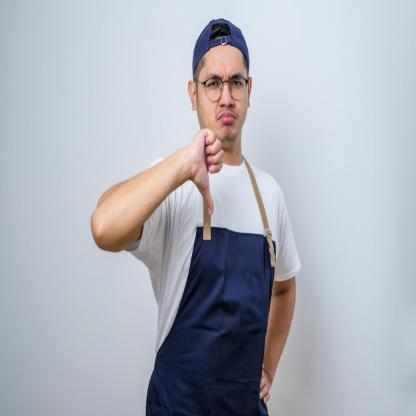thumb_down: (184, 124, 226, 220)
